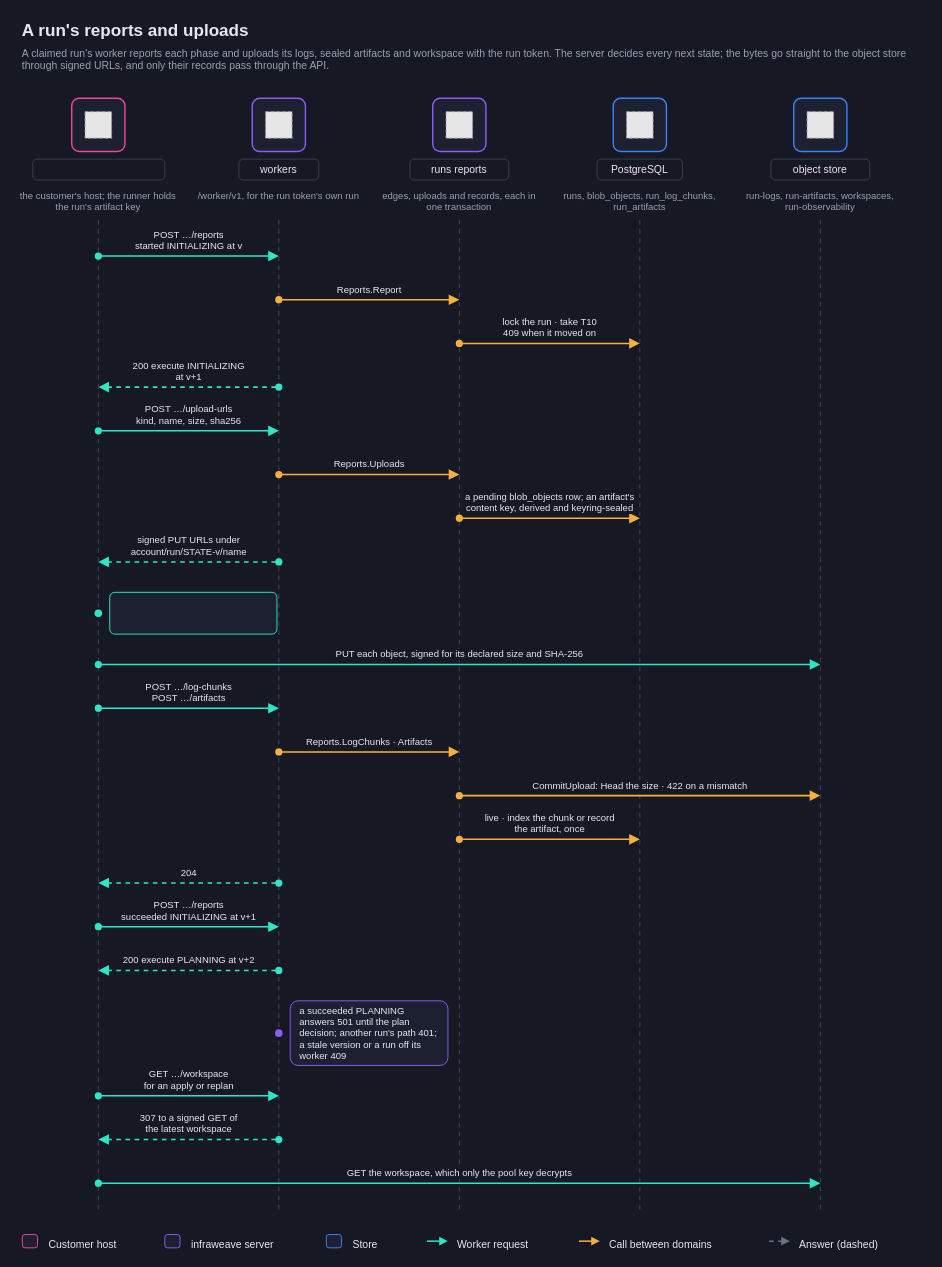
The diagram is 942 pixels wide and 1267 high, and some of its shapes have lost their labels. Grey dashed boxes stand in for pictures. Each missing label, with the centre of its shape:
launcher · runner: (98,169)
seals each artifact under ArtifactKey(artifact key, object key): (193,612)
